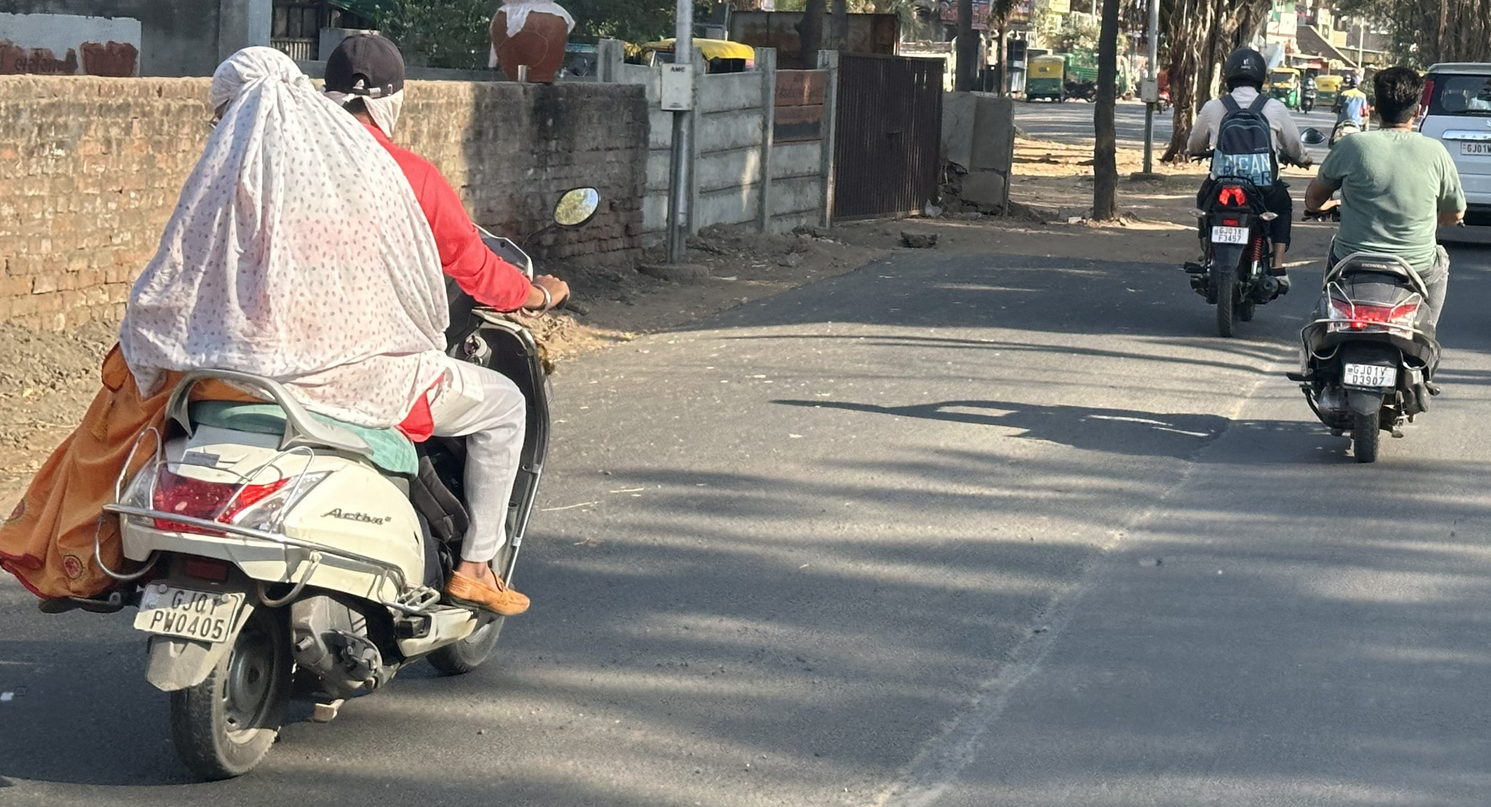BikeWithRider: (0, 21, 611, 792), (1277, 55, 1472, 471), (1170, 38, 1310, 344)
Helmet: (1215, 42, 1275, 99)
NoHelmet: (191, 37, 321, 161), (309, 23, 422, 149), (1361, 58, 1434, 134)
